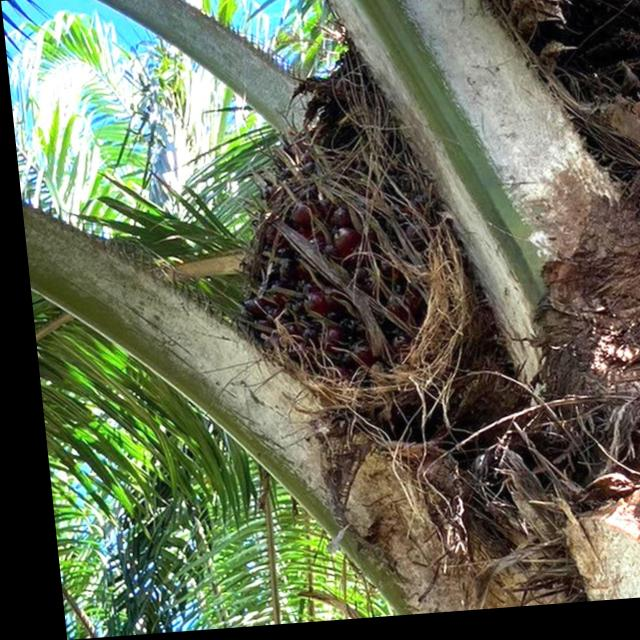ripe: (199, 121, 535, 501)
